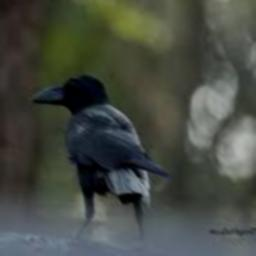Crow: (29, 74, 171, 244)
